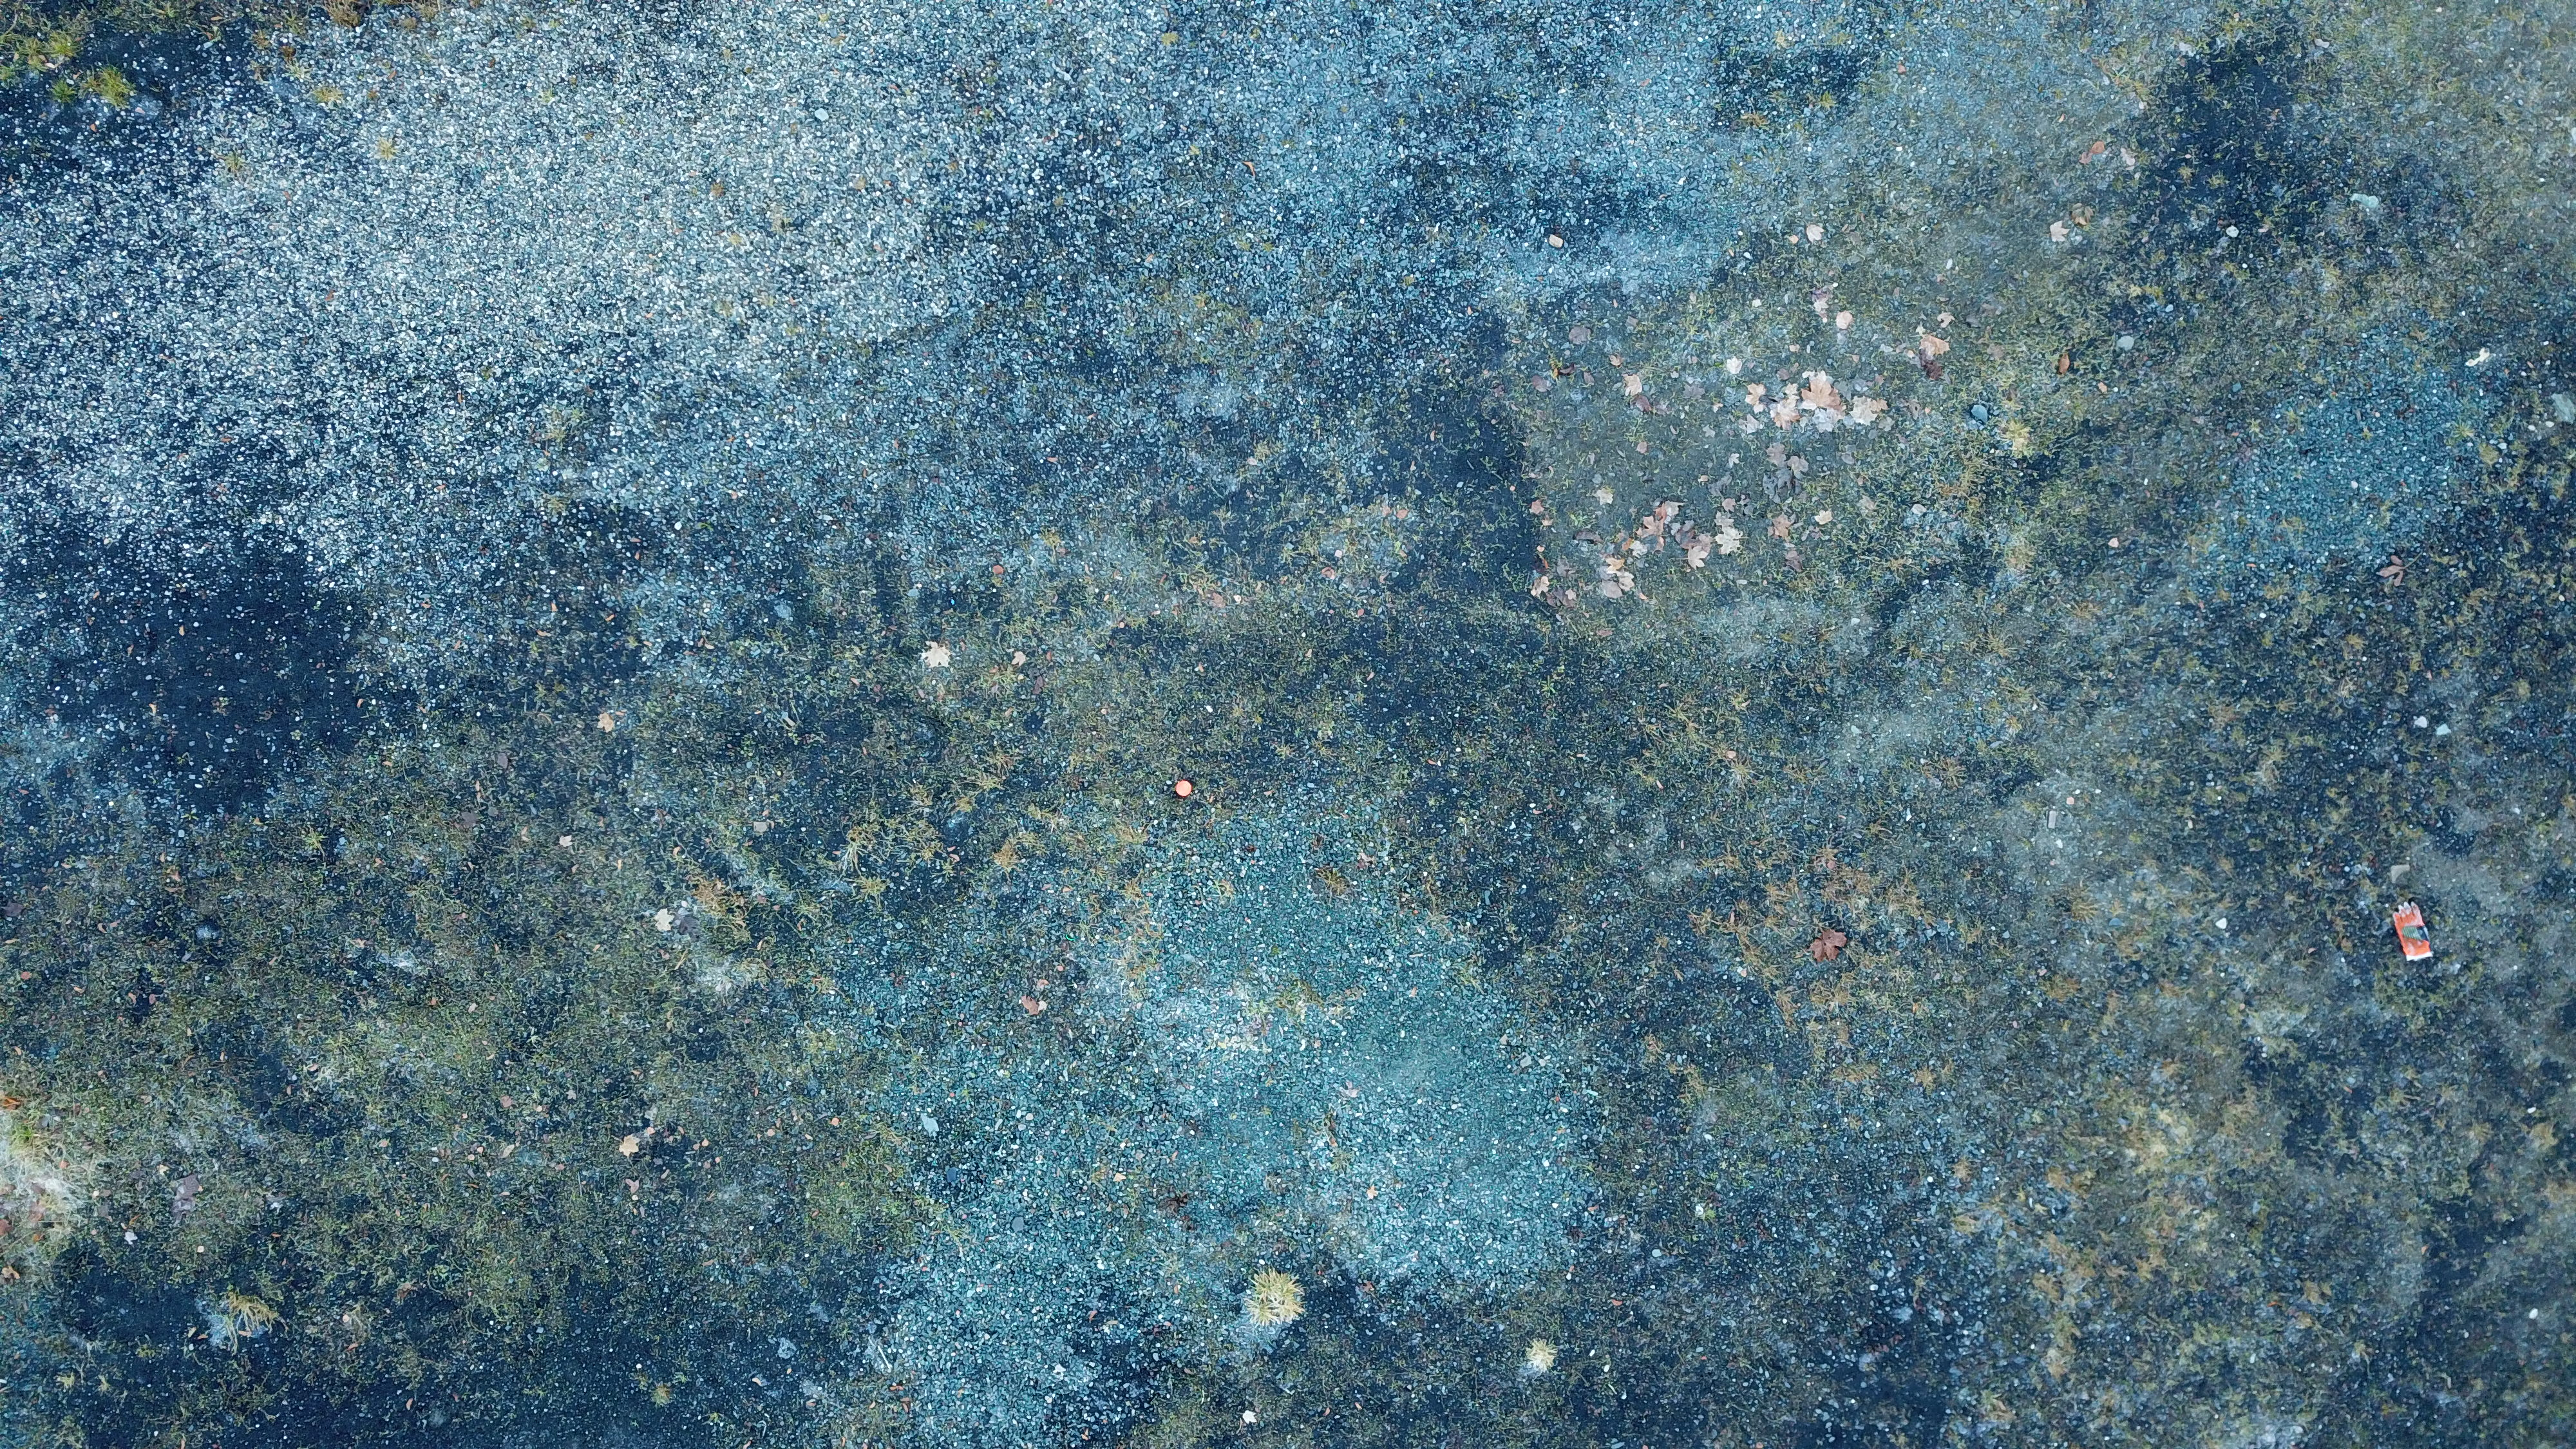Other: (2388, 897, 2438, 966)
Plastic: (1171, 777, 1200, 798)
